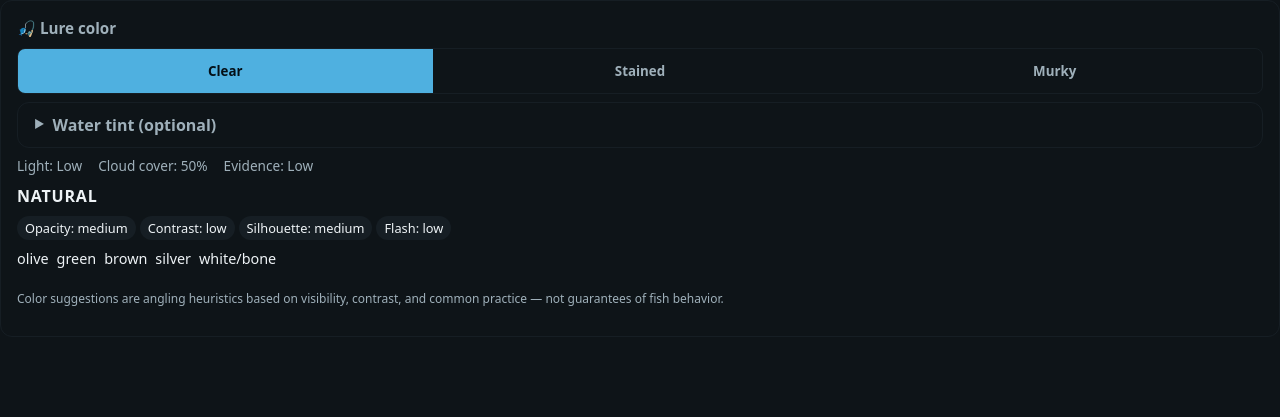
FishingCard › defaults to clear water and updates the recommendation immediately on tapping another option
Expected: the text "Light: Low" is shown, [17,156,82,176]
Expected: the text "Natural" is shown, [17,185,98,207]
Click the radio button labelled "Murky". click: click(1055, 71)
box: [847,49,1262,93]
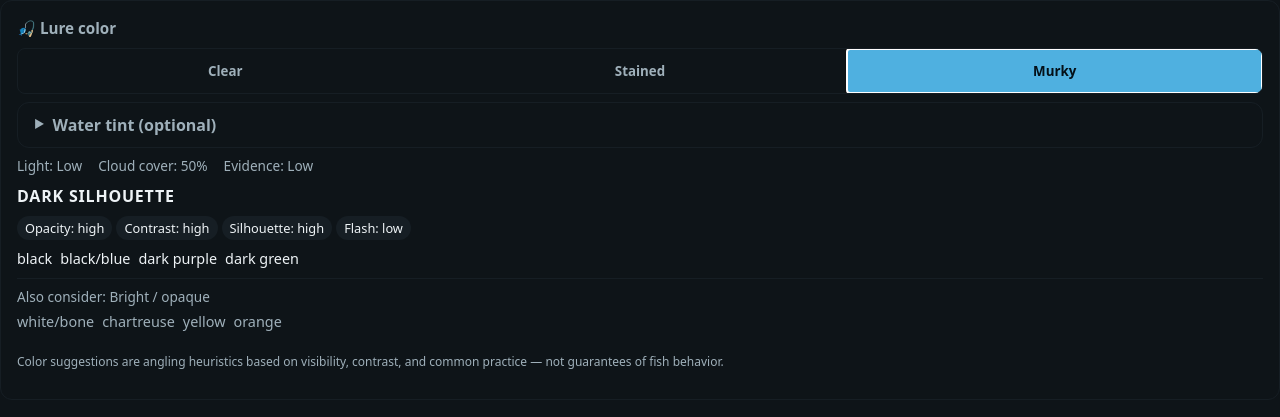
Now the text "Dark silhouette" is shown, box [17,185,175,207]
Now the text "Also consider: Bright / opaque" is shown, box [17,287,210,306]
Now the text "Natural" is gone
